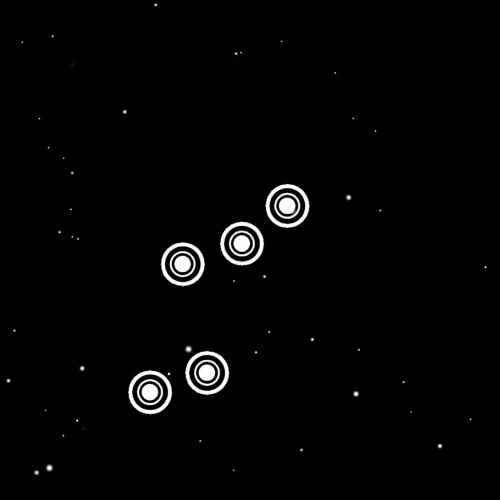lyra: (122, 162, 322, 429)
